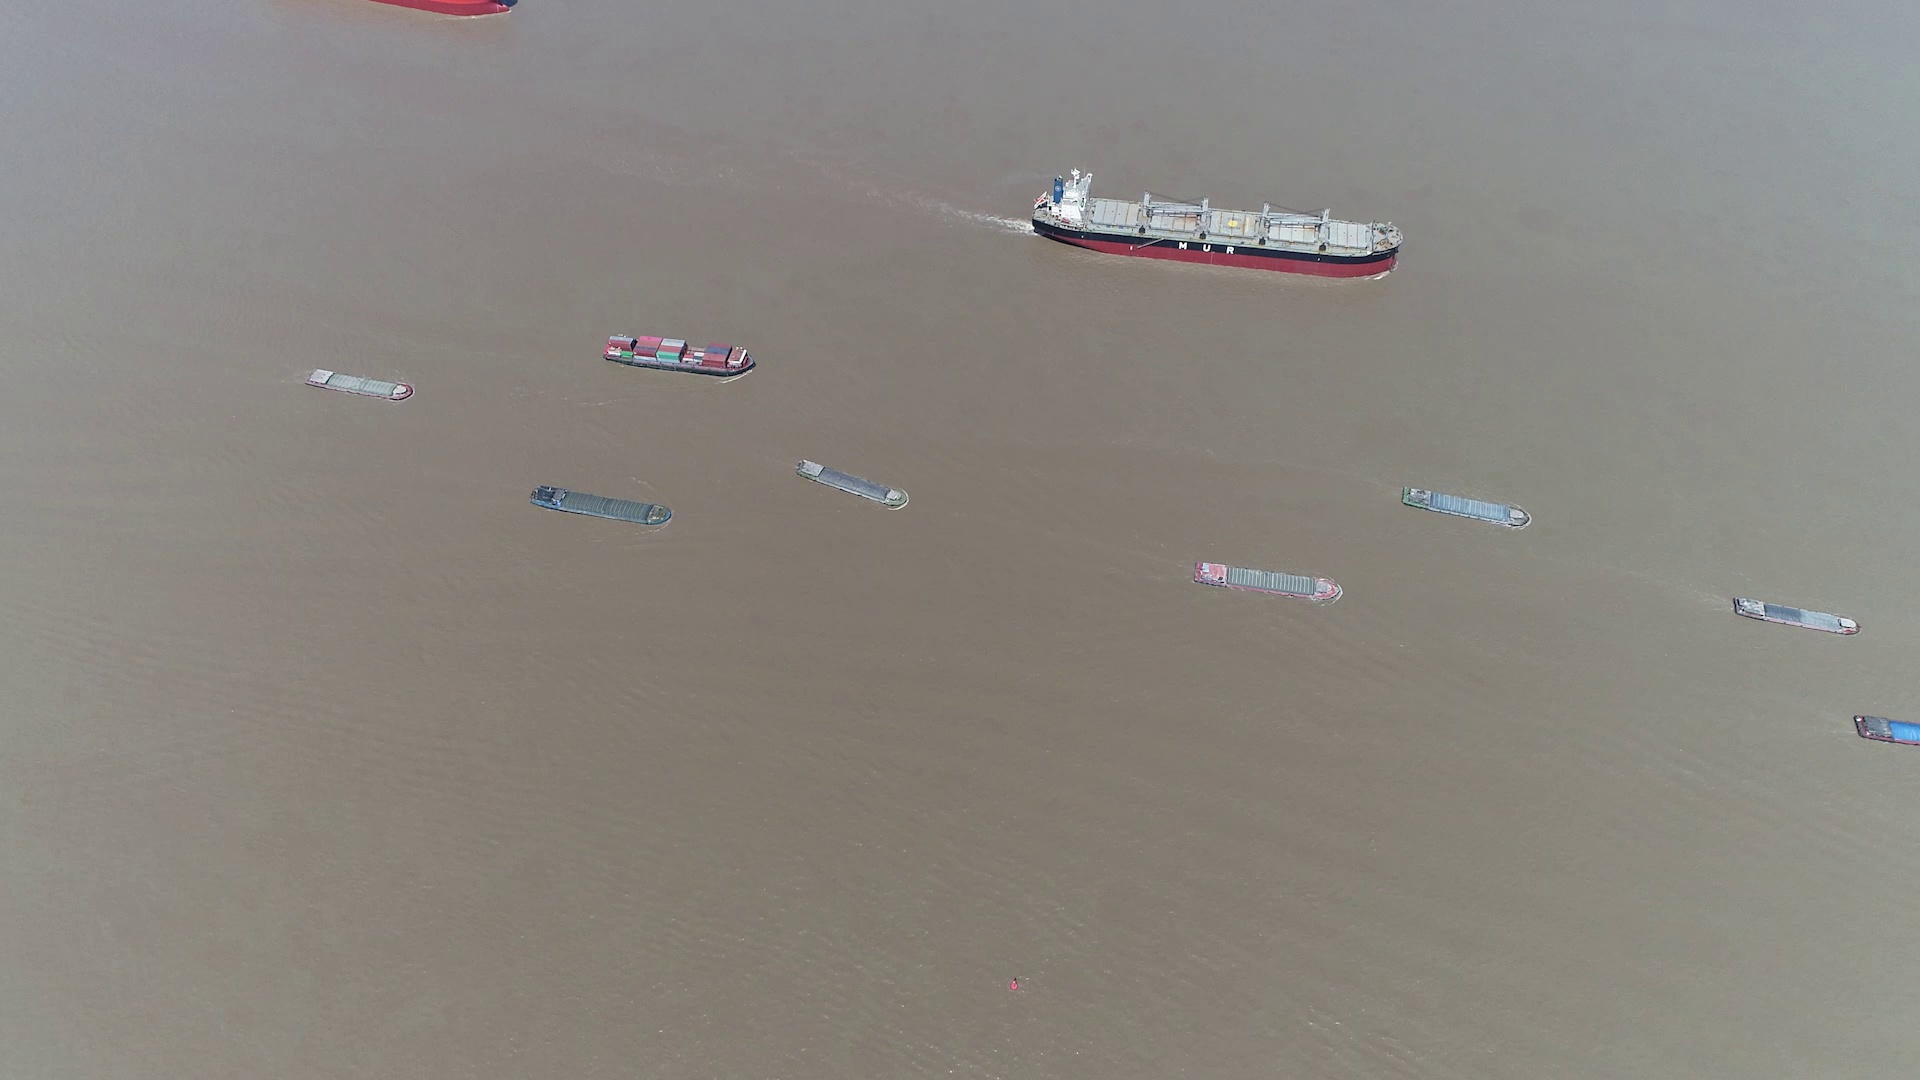ship: (1038, 173, 1402, 276), (1192, 560, 1338, 603), (531, 485, 674, 527), (796, 458, 911, 509), (603, 336, 754, 375), (1400, 487, 1531, 527), (1731, 595, 1859, 636), (306, 368, 414, 401), (1854, 716, 1920, 748)
